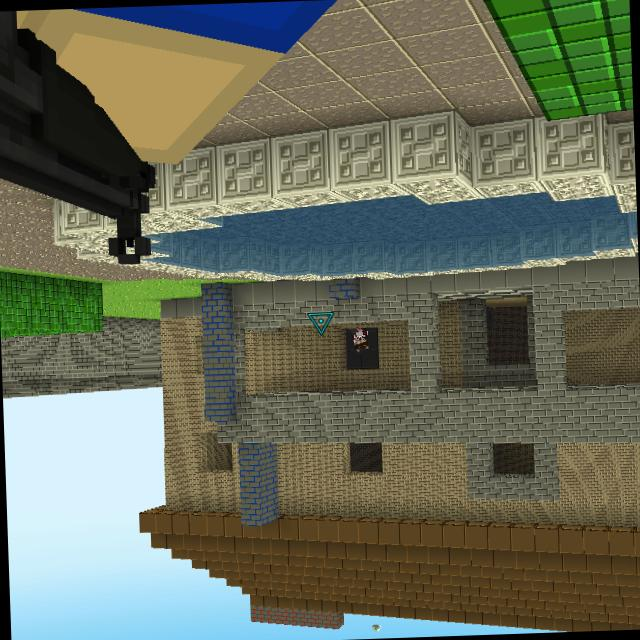enemy: (353, 326, 370, 353)
